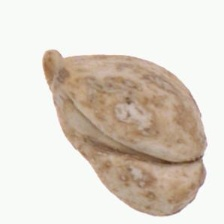L1: (41, 48, 66, 89), (195, 118, 208, 191)
L2: (41, 48, 208, 216)
